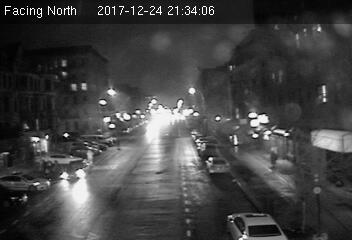car: (223, 208, 288, 240), (205, 155, 229, 172)
